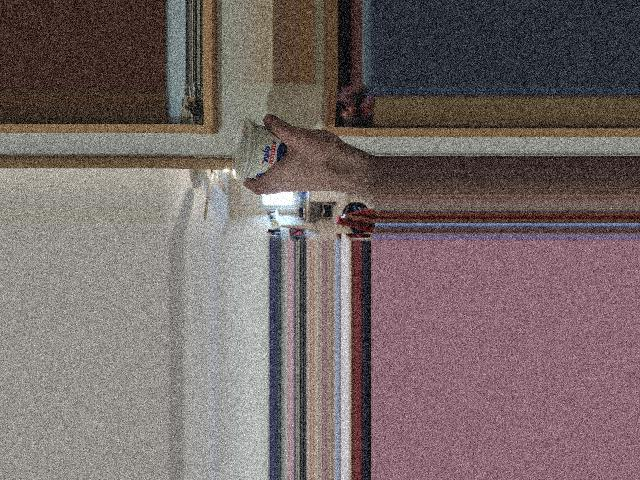cotage: (230, 121, 301, 186)
